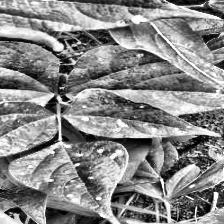Bean Rust: (11, 135, 128, 224), (61, 50, 224, 112), (60, 96, 206, 136), (0, 0, 174, 33), (0, 40, 59, 119), (0, 101, 58, 172), (190, 171, 224, 224)
